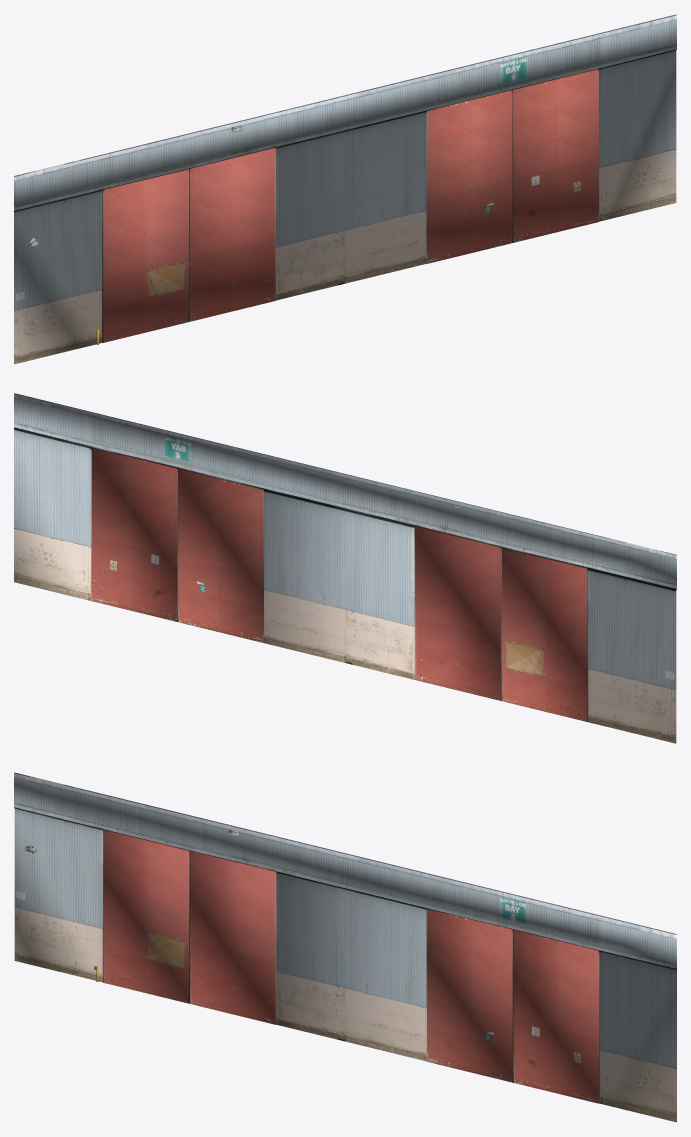
Rendered from 00_warehouse_front.glb.
The picture shows the model from 3 angles, top to bottom: view 1: azimuth 30°, elevation 25°; view 2: azimuth 150°, elevation 25°; view 3: azimuth 330°, elevation 25°; orthographic projection.
Parts seen in each view (by area): view 1: warehouse_front; view 2: warehouse_front; view 3: warehouse_front.
Boxes of the visible parts, box(x1,y1,x2,y2) form: warehouse_front: box(14, 14, 676, 364); warehouse_front: box(14, 393, 676, 743); warehouse_front: box(14, 772, 676, 1122).
Size of the model in its own units: 22.49 by 6.11 by 0.1851.
Materials: 1 (1 with a texture image).
